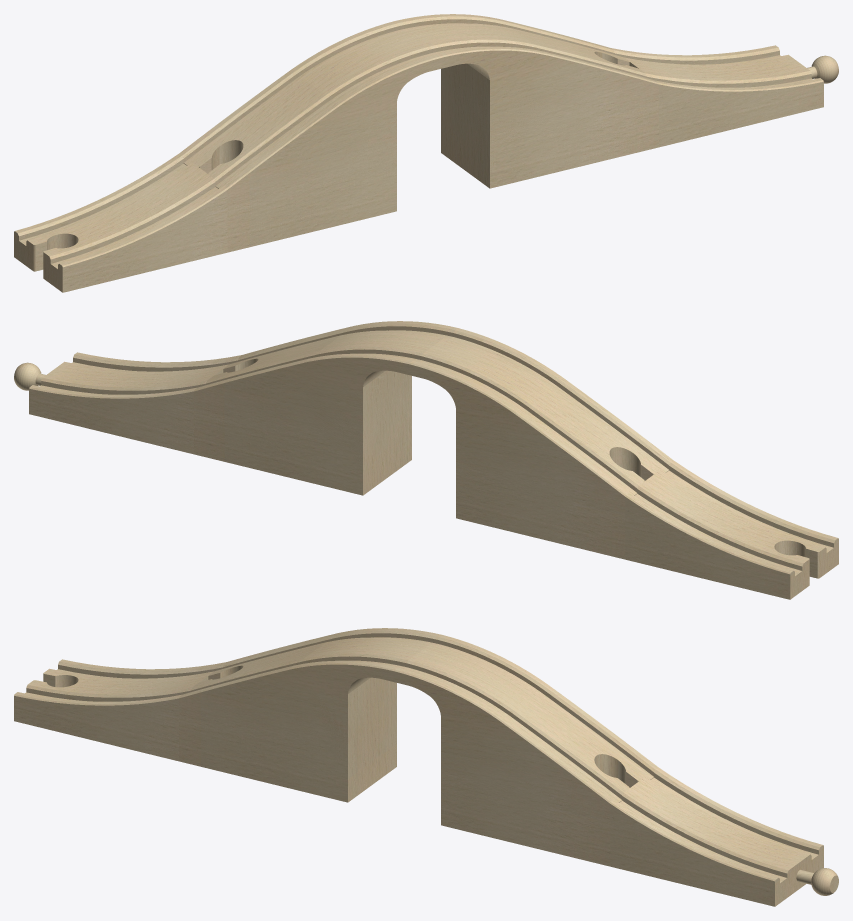
The picture shows the model from 3 angles, top to bottom: view 1: azimuth 30°, elevation 25°; view 2: azimuth 150°, elevation 25°; view 3: azimuth 330°, elevation 25°; orthographic projection.
Visible parts, largest first — view 1: group_0, group_2 (×2), group_1, _3d_peg; view 2: group_0, group_2 (×2), group_1, _3d_peg; view 3: group_0, group_1, group_2, _3d_peg.
Boxes of the visible parts, left/top/right/bottom form: group_0: left=180, top=14, right=658, bottom=252; group_2 (×2): left=14, top=153, right=227, bottom=292; group_1: left=611, top=45, right=823, bottom=147; _3d_peg: left=807, top=55, right=838, bottom=83; group_0: left=194, top=321, right=672, bottom=559; group_2 (×2): left=625, top=460, right=838, bottom=599; group_1: left=29, top=352, right=241, bottom=454; _3d_peg: left=14, top=362, right=45, bottom=390; group_0: left=179, top=628, right=657, bottom=866; group_1: left=610, top=767, right=823, bottom=906; group_2: left=14, top=659, right=226, bottom=761; _3d_peg: left=796, top=868, right=838, bottom=895.
Size of the model in its own units: 14.82 by 1.57 by 2.56.
